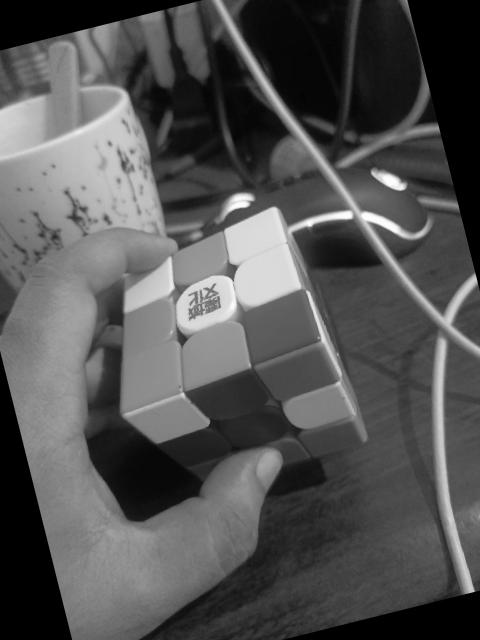rubik: (80, 196, 372, 504)
